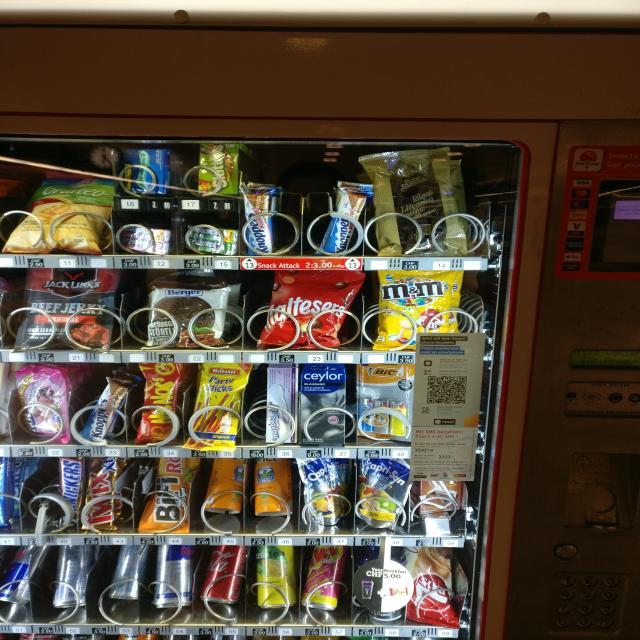7days_croissantschoko_packung_80_1_0000000000003: (404, 544, 464, 627)
airwaves_menthoneucalyptus_riegel_14_1_50173167: (122, 144, 168, 194)
bifi_roll__50__4251097402635: (147, 456, 191, 533)
c-swiss_dosenabisicetea__33__9120025930135: (201, 454, 248, 514), (254, 457, 296, 519)
caprisun_multivitamin__20__4000177605004: (301, 454, 358, 528), (357, 456, 410, 530)
coke__dose_33__54491472: (198, 544, 250, 604)
fini_jellykisses_packung_80_1_8410525116704: (11, 362, 70, 444)
fuse_lemon_dose_33__5449000235947: (252, 543, 302, 608)
jacklinks_beefjerkyorginal__25__4047751730219: (21, 266, 119, 352)
jlbrichard_gauffre__90__5410495002000: (373, 158, 468, 252)
knoppers_riegel____4035800488808: (78, 375, 133, 446), (322, 183, 371, 253), (237, 186, 278, 256)
lorenz_nicnacs__40__4018077798818: (135, 361, 185, 445)
malburner_partysticks__40__7610200279682: (188, 361, 248, 450)
maltesers___100__5000159023061: (262, 268, 360, 350)
mnms_gelb__45__40111445: (374, 270, 454, 354)
redbull___33__90162909: (52, 540, 96, 614), (106, 541, 151, 601), (154, 543, 194, 607), (0, 541, 39, 604)
skittles_sour_riegel_51_1_0000000000004: (195, 140, 240, 196)
snickers___50__5000159461122: (51, 452, 89, 528)
stimorol_spearmint_riegel_14_1_0000000000005: (181, 222, 238, 256)
stimorol_wildcherry_riegel_14_1_57060330: (120, 224, 168, 253)
tiki_himbeer_brause__50__00000000009342: (301, 541, 346, 611)
twix___50__5000159459228: (82, 454, 122, 534)
zweifel_graneochilli__100__7610095184009: (2, 168, 115, 255)
